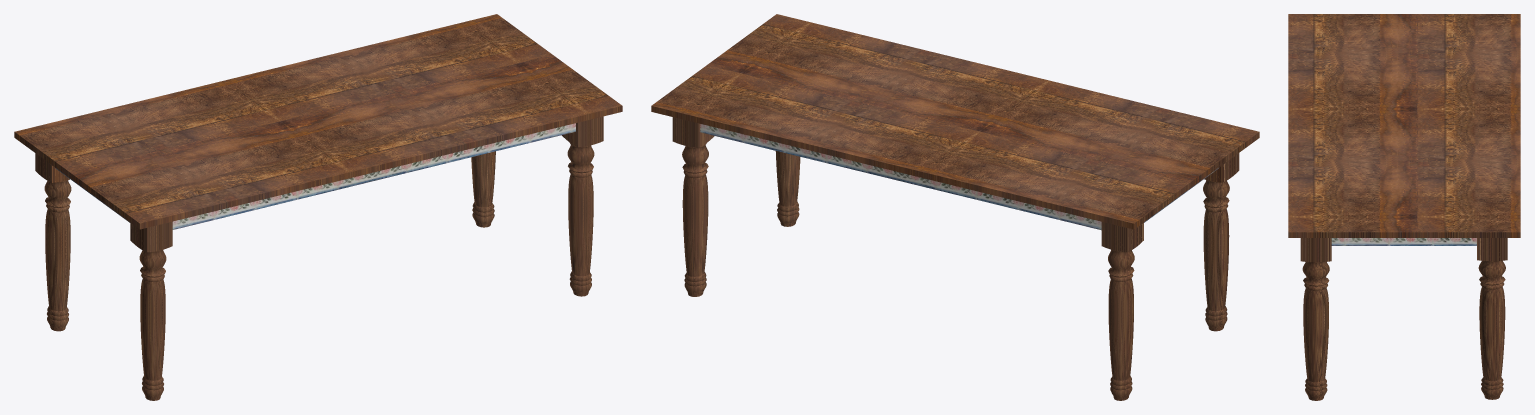
Rendered from Gruppe_62.fbx.
3 renders of one model, left to right at view 1: azimuth 30°, elevation 25°; view 2: azimuth 150°, elevation 25°; view 3: azimuth 270°, elevation 25°, orthographic. The views are drawn at different scales.
Visible parts, largest first — view 1: Group1, Group8, Group2, Group5, Group_161_5, Group_161_4, Group11, Group7, Group10; view 2: Group1, Group11, Group2, Group5, Group_161_6, Group_161_3, Group8, Group4, Group13; view 3: Group1, Group11, Group8, Group_161_2, Group10, Group13.
Part boxes in pixels (box(x1,y1,x2,y2)): Group1: box(14, 14, 622, 229); Group8: box(567, 142, 594, 296); Group2: box(44, 180, 71, 331); Group5: box(139, 250, 166, 400); Group_161_5: box(372, 123, 575, 181); Group_161_4: box(172, 173, 372, 229); Group11: box(471, 151, 495, 227); Group7: box(130, 221, 172, 252); Group10: box(562, 116, 603, 147); Group1: box(651, 14, 1259, 229); Group11: box(682, 143, 708, 296); Group2: box(1108, 249, 1134, 400); Group5: box(1203, 180, 1229, 331); Group_161_6: box(700, 124, 901, 181); Group_161_3: box(901, 173, 1101, 230); Group8: box(775, 151, 800, 226); Group4: box(1101, 222, 1143, 252); Group13: box(672, 117, 714, 147); Group1: box(1288, 14, 1520, 237); Group11: box(1478, 261, 1505, 399); Group8: box(1302, 262, 1329, 400); Group_161_2: box(1331, 238, 1476, 245); Group10: box(1300, 238, 1331, 262); Group13: box(1477, 238, 1507, 261).
Bounding box in the file's own units: 2 × 0.76 × 0.9.
